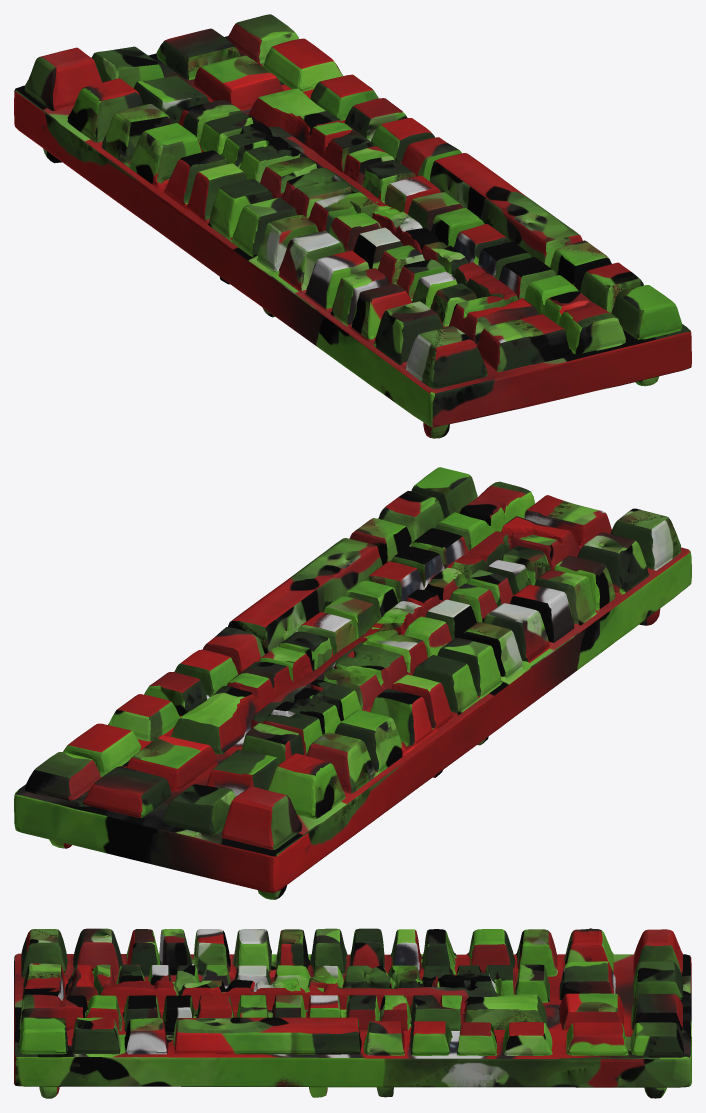
Rendered from sample.obj.
The picture shows the model from 3 angles, top to bottom: view 1: azimuth 30°, elevation 25°; view 2: azimuth 150°, elevation 25°; view 3: azimuth 270°, elevation 25°; orthographic projection. The views are drawn at different scales.
Bounding box in the file's own units: 0.1341 × 0.05 × 0.369.
